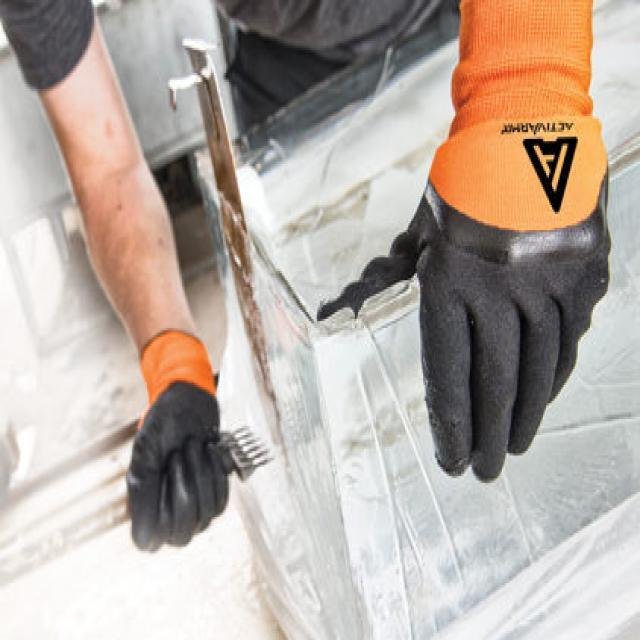Gloves: (394, 0, 620, 491), (127, 318, 243, 568)
